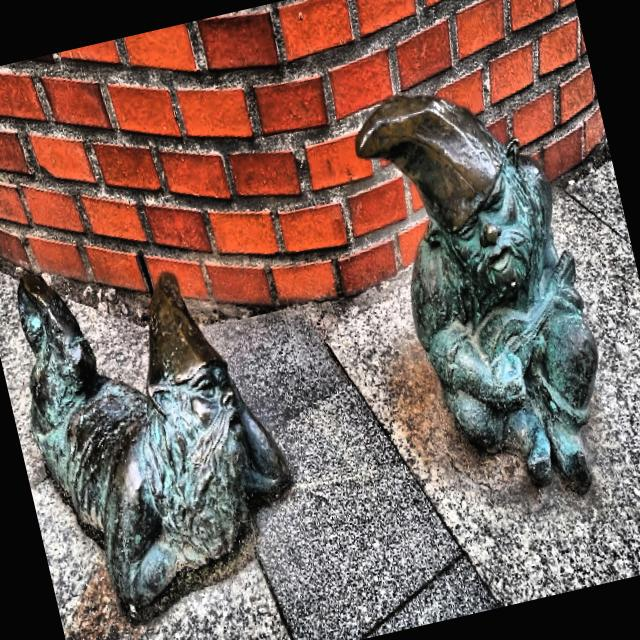Grajek_i_Meloman: (15, 95, 596, 616)
